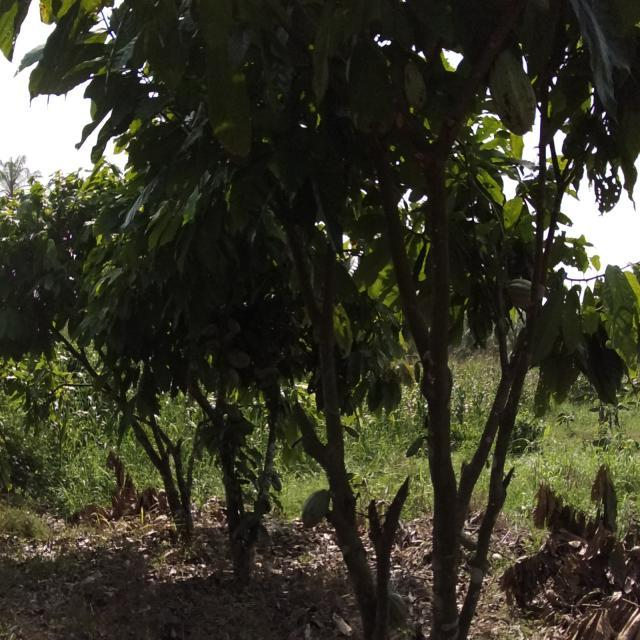Mature_Unripe: (491, 38, 543, 146), (302, 484, 338, 534)
